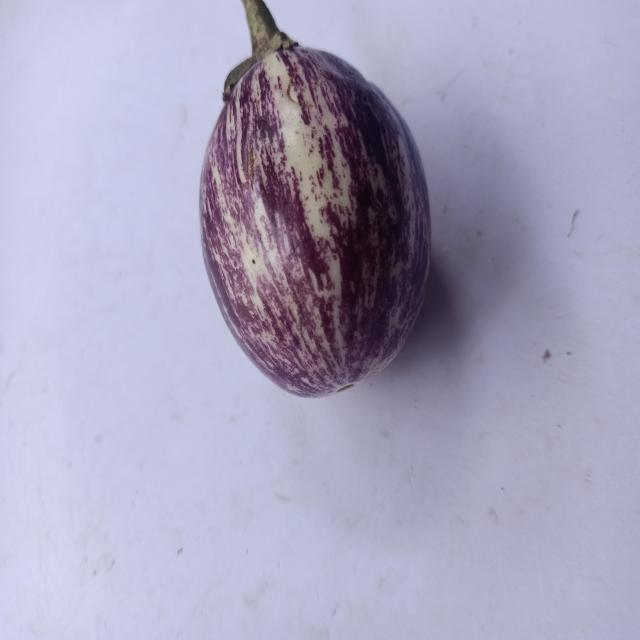Eggplant: (167, 1, 450, 412)
